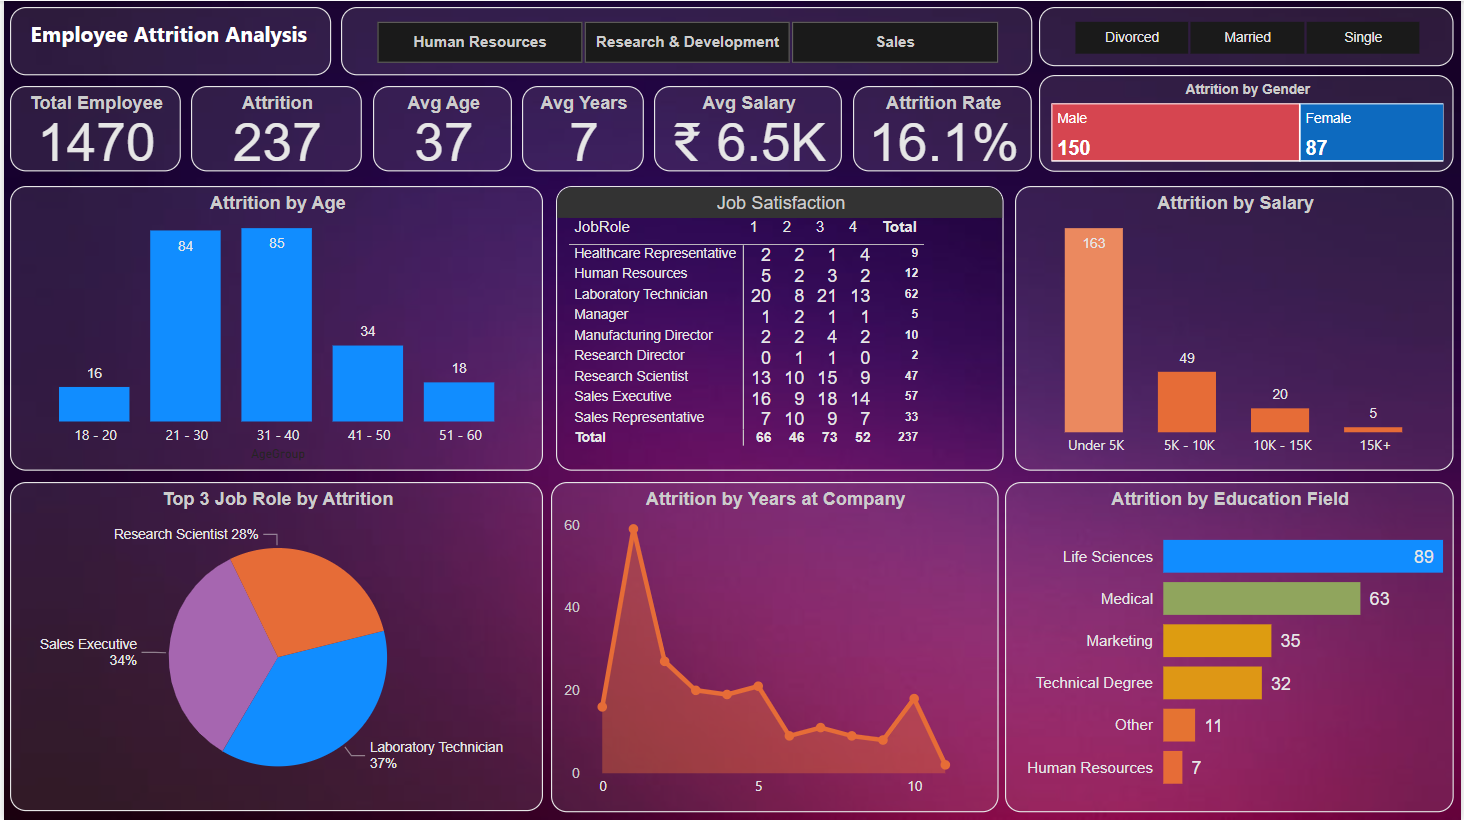

The dashboard page shown, as its layout file describes it:
{"tool":"powerbi","page":{"name":"Page 1","canvas":[1280,720],"ordinal":0},"visuals":[{"type":"textbox","box":[5.3,5.3,281.9,59.7],"z":0},{"type":"slicer","title":"Department","fields":{"Values":["HR-Employee-Attrition.Department"]},"box":[295.9,5.3,606.7,59.7],"z":1000},{"type":"pivotTable","title":"Job Satisfaction","fields":{"Rows":["HR-Employee-Attrition.JobRole"],"Columns":["HR-Employee-Attrition.JobSatisfaction"],"Values":["Sum(HR-Employee-Attrition.AttritionCount)"]},"box":[484.7,162.4,393.4,250.2],"z":2000},{"type":"card","title":"Total Employee","fields":{"Values":["Sum(HR-Employee-Attrition.EmployeeCount)"]},"box":[4.9,74.8,149.7,74.8],"z":3000},{"type":"card","title":"Attrition","fields":{"Values":["Sum(HR-Employee-Attrition.AttritionCount)"]},"box":[164.3,74.8,149.7,74.8],"z":4000},{"type":"card","title":"Avg Age","fields":{"Values":["Avg(HR-Employee-Attrition.Age)"]},"box":[323.6,74.8,122.5,74.8],"z":5000},{"type":"card","title":"Avg Salary","fields":{"Values":["Avg(HR-Employee-Attrition.MonthlyIncome)"]},"box":[570.5,74.8,165.2,74.8],"z":6000},{"type":"card","title":"Avg Years","fields":{"Values":["Avg(HR-Employee-Attrition.YearsAtCompany)"]},"box":[454.9,74.8,106.9,74.8],"z":7000},{"type":"card","title":"Attrition Rate","fields":{"Values":["HR-Employee-Attrition.AttritionRate"]},"box":[745.5,74.8,157.4,74.8],"z":8000},{"type":"columnChart","title":"Attrition by Age","fields":{"Y":["Sum(HR-Employee-Attrition.AttritionCount)"],"Category":["HR-Employee-Attrition.AgeGroup"]},"box":[4.9,162.3,468.5,249.8],"z":9000},{"type":"clusteredColumnChart","title":"Attrition by Salary","fields":{"Category":["HR-Employee-Attrition.SalaryScale"],"Y":["Sum(HR-Employee-Attrition.AttritionCount)"]},"box":[887.7,162.4,385.5,250.2],"z":10000},{"type":"treemap","title":"Attrition by Gender","fields":{"Group":["HR-Employee-Attrition.Gender"],"Values":["Sum(HR-Employee-Attrition.AttritionCount)"]},"box":[908.7,65.1,364.5,84.6],"z":11000},{"type":"slicer","title":"Attrition by Gender","fields":{"Values":["HR-Employee-Attrition.MaritalStatus"]},"box":[908.8,5.3,364.4,51.8],"z":12000},{"type":"pieChart","title":"Top 3  Job Role by Attrition","fields":{"Y":["Sum(HR-Employee-Attrition.AttritionCount)"],"Category":["HR-Employee-Attrition.JobRole"]},"box":[4.9,422.8,468.5,288.7],"z":13000},{"type":"barChart","title":"Attrition by Education Field","fields":{"Y":["Sum(HR-Employee-Attrition.AttritionCount)"],"Category":["HR-Employee-Attrition.EducationField"]},"box":[878.6,422.8,393.6,289.6],"z":14000},{"type":"areaChart","title":"Attrition by Years at Company","fields":{"Y":["Sum(HR-Employee-Attrition.AttritionCount)"],"Category":["HR-Employee-Attrition.YearsAtCompany"]},"box":[480.1,422.8,392.6,289.6],"z":15000}]}

Visuals, with their boxes in screenshot pixels (x1, y1, x2, y2), scaled from the page's 1280x720 canvas onto the 1464x820 screenshot:
textbox: [6,6,328,74]
"Department" slicer: [338,6,1032,74]
"Job Satisfaction" pivotTable: [554,185,1004,470]
"Total Employee" card: [6,85,177,170]
"Attrition" card: [188,85,359,170]
"Avg Age" card: [370,85,510,170]
"Avg Salary" card: [653,85,841,170]
"Avg Years" card: [520,85,643,170]
"Attrition Rate" card: [853,85,1033,170]
"Attrition by Age" columnChart: [6,185,541,469]
"Attrition by Salary" clusteredColumnChart: [1015,185,1456,470]
"Attrition by Gender" treemap: [1039,74,1456,170]
"Attrition by Gender" slicer: [1039,6,1456,65]
"Top 3  Job Role by Attrition" pieChart: [6,482,541,810]
"Attrition by Education Field" barChart: [1005,482,1455,811]
"Attrition by Years at Company" areaChart: [549,482,998,811]
